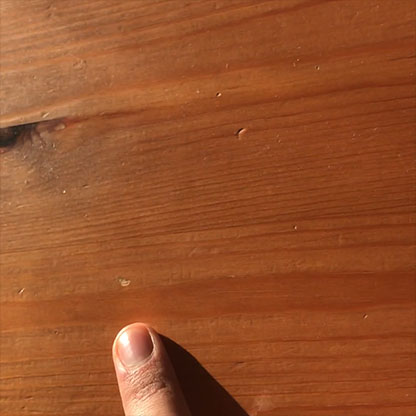fingertip: (97, 317, 165, 378)
